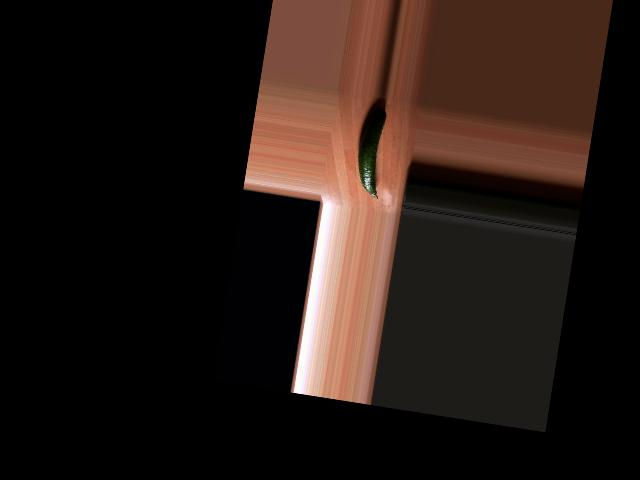cucumber: (351, 104, 391, 199)
